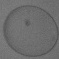small: (23, 18, 33, 27)
